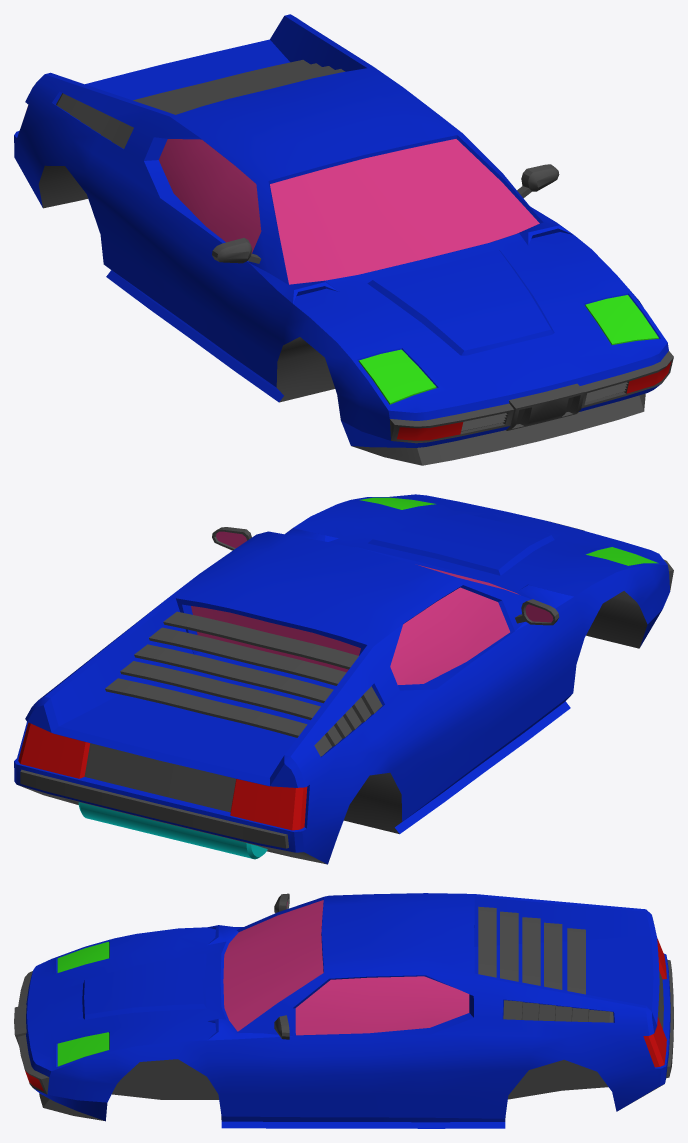
3 renders of one model, top to bottom at view 1: azimuth 30°, elevation 25°; view 2: azimuth 150°, elevation 25°; view 3: azimuth 270°, elevation 25°, orthographic. The views are drawn at different scales.
Visible parts, largest first — view 1: C43; view 2: C43; view 3: C43.
Boxes of the visible parts, x1,y1,x2,y2 form: C43: (14,14,673,465); C43: (14,494,673,864); C43: (14,893,673,1128).
Bounding box in the file's own units: 90.76 × 43.81 × 183.
